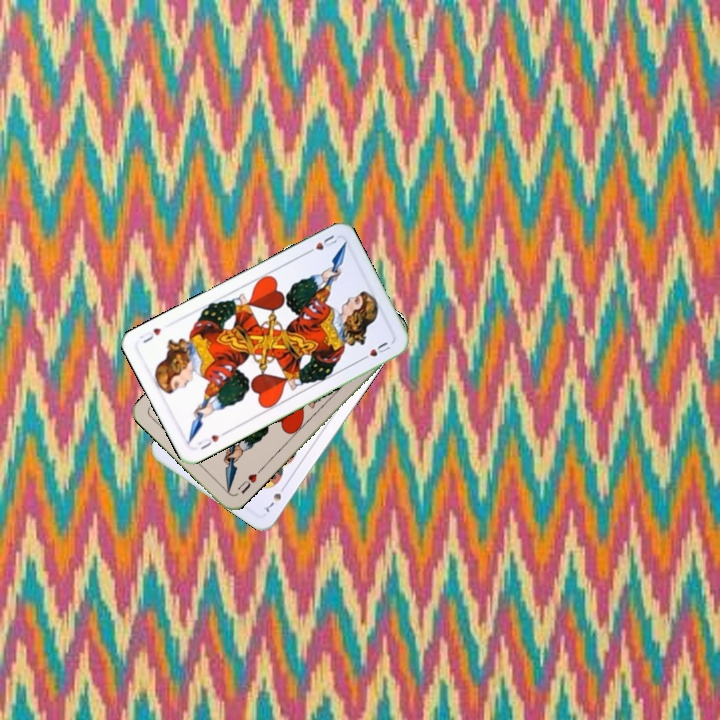HU: (302, 231, 340, 257), (194, 428, 229, 452), (233, 470, 260, 496)
S7: (261, 481, 289, 514)
